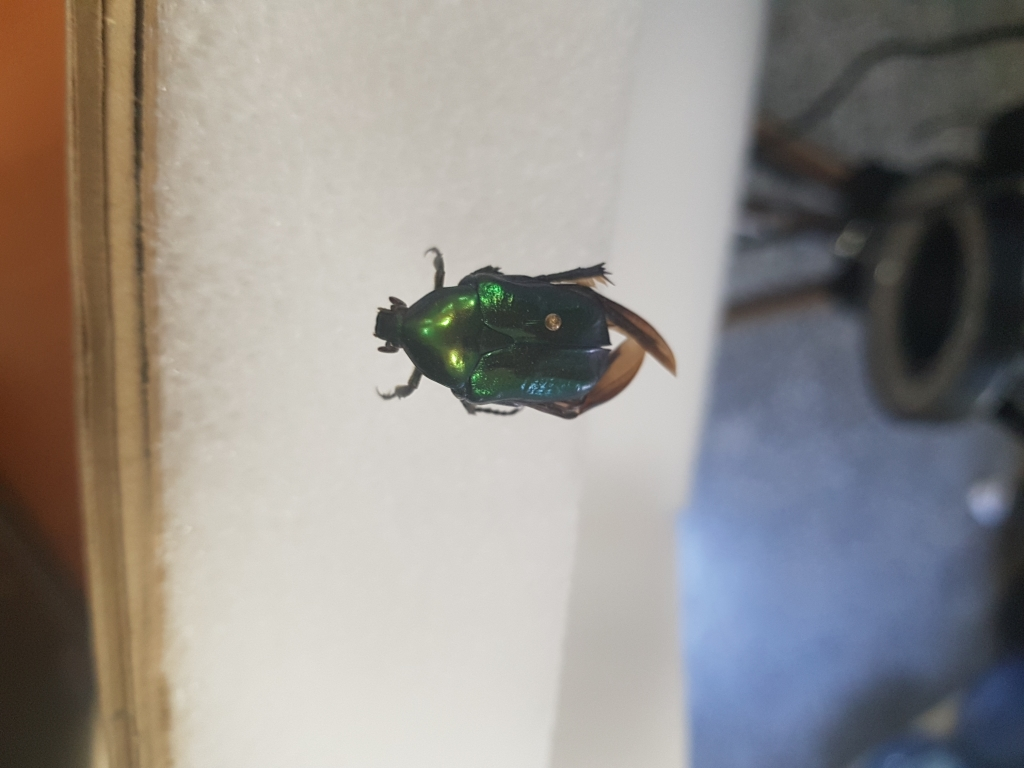Protaetia_angustata_angustata: (366, 237, 680, 427)
